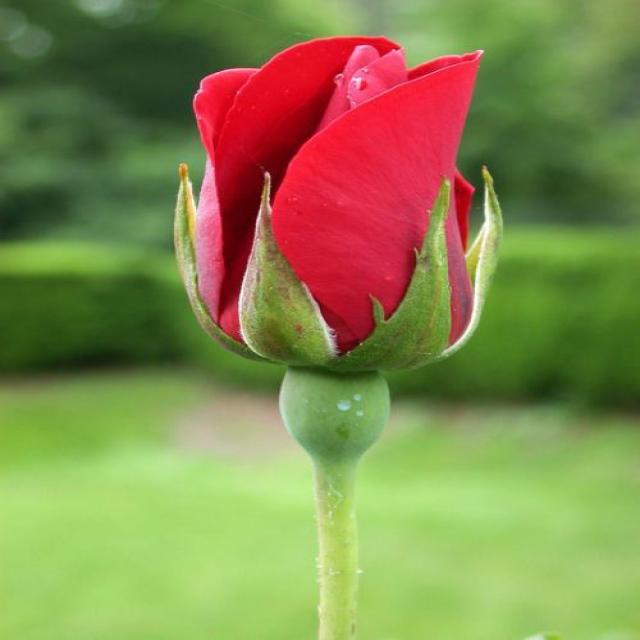rose: (154, 24, 531, 469)
